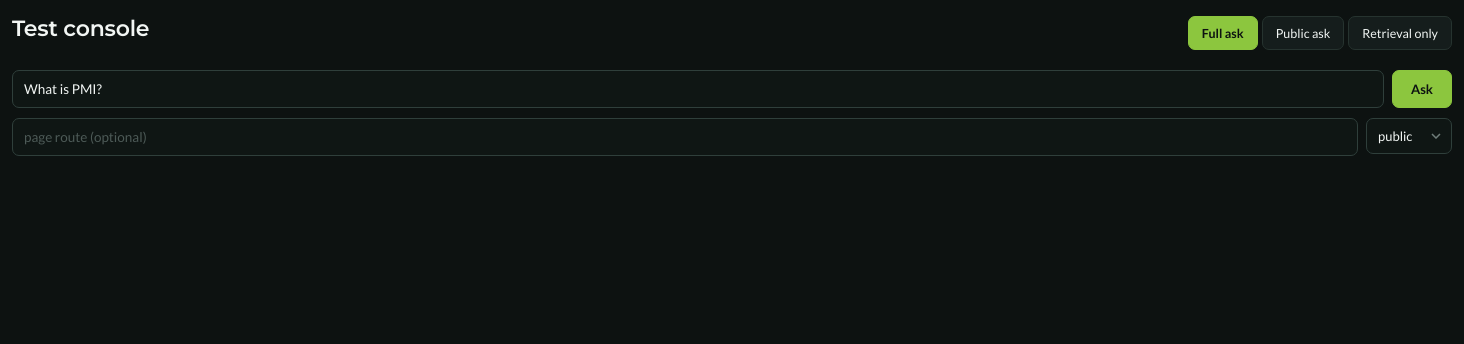
Scenario: TestConsole › submits a thumbs-up on a full-ask answer through the admin trace-feedback endpoint, not the public one
Click the button "Ask" at (1422, 89), box [1392, 70, 1452, 108]
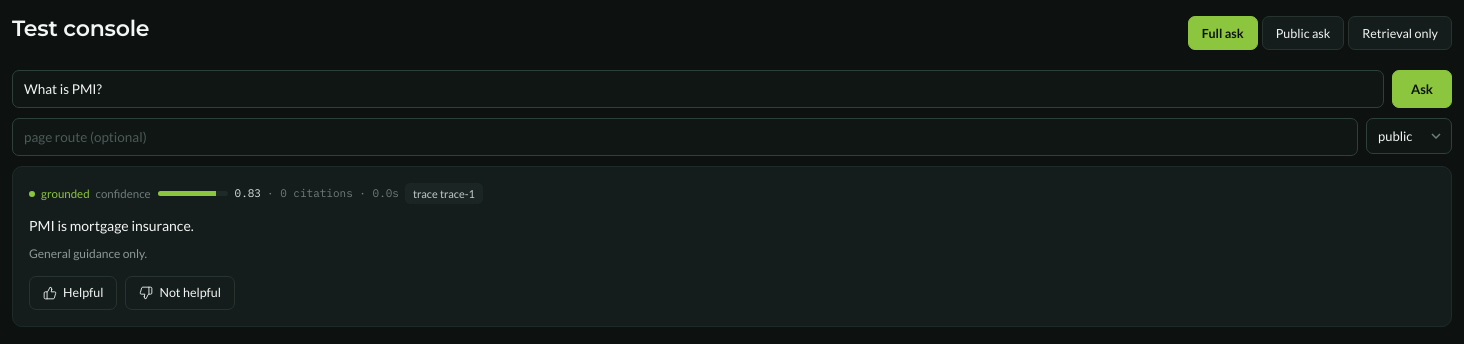
Check: the text "PMI is mortgage insurance." is shown, box [29, 217, 194, 234]
Click the button "Helpful" at (73, 293), box [29, 276, 118, 310]
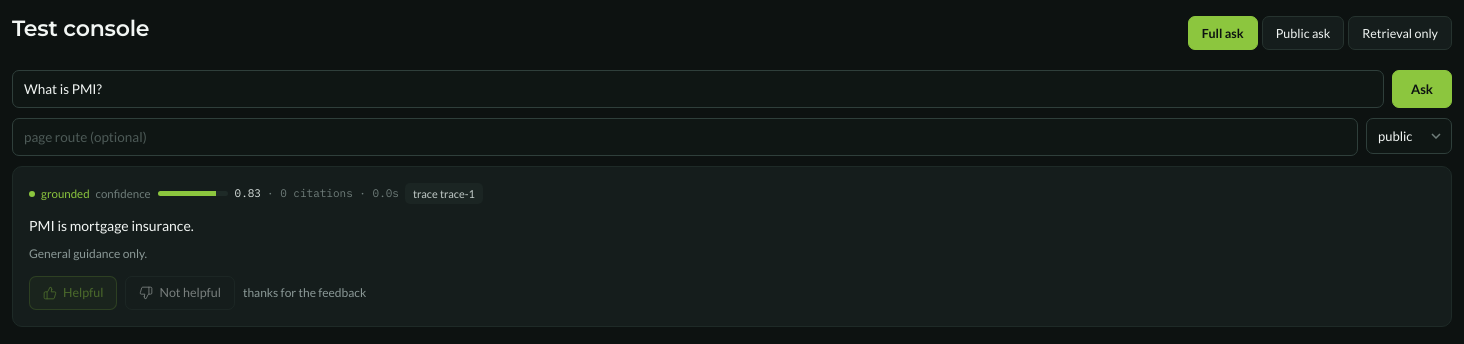
Check: the button "Helpful" is disabled, box [29, 276, 118, 310]
Check: the button "Not helpful" is disabled, box [126, 276, 235, 310]
